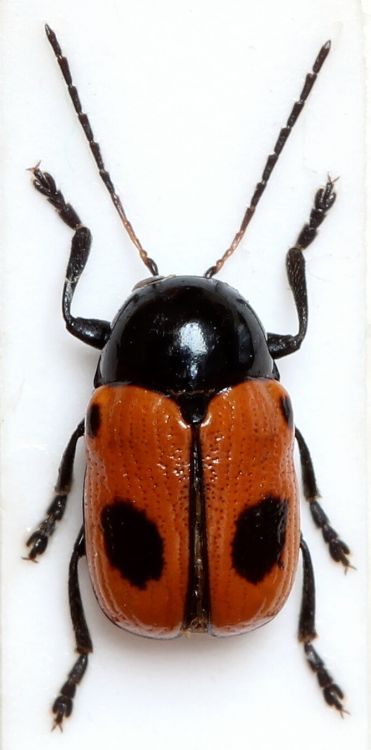Cryptocephalus_bipunctatus: (10, 11, 362, 727)
